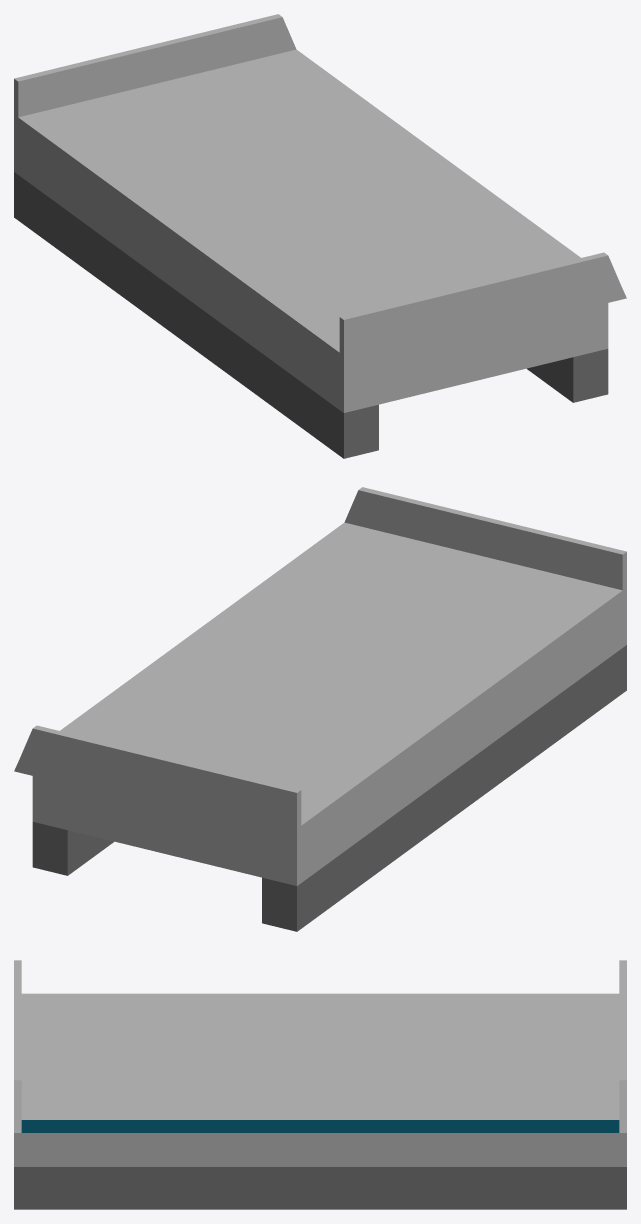
The model's file is Shelf_01_Bottom.glb.
The picture shows the model from 3 angles, top to bottom: view 1: azimuth 30°, elevation 25°; view 2: azimuth 150°, elevation 25°; view 3: azimuth 270°, elevation 25°; orthographic projection. The views are drawn at different scales.
Visible parts, largest first — view 1: Mesh_Shelf_01_Bottom; view 2: Mesh_Shelf_01_Bottom; view 3: Mesh_Shelf_01_Bottom.
Part boxes in pixels (left/top/right/bottom): Mesh_Shelf_01_Bottom: left=14, top=14, right=626, bottom=458; Mesh_Shelf_01_Bottom: left=14, top=487, right=626, bottom=931; Mesh_Shelf_01_Bottom: left=14, top=960, right=626, bottom=1209.
Bounding box in the file's own units: 0.5086 × 0.2384 × 1.03.
Materials: 1 (1 with a texture image).
